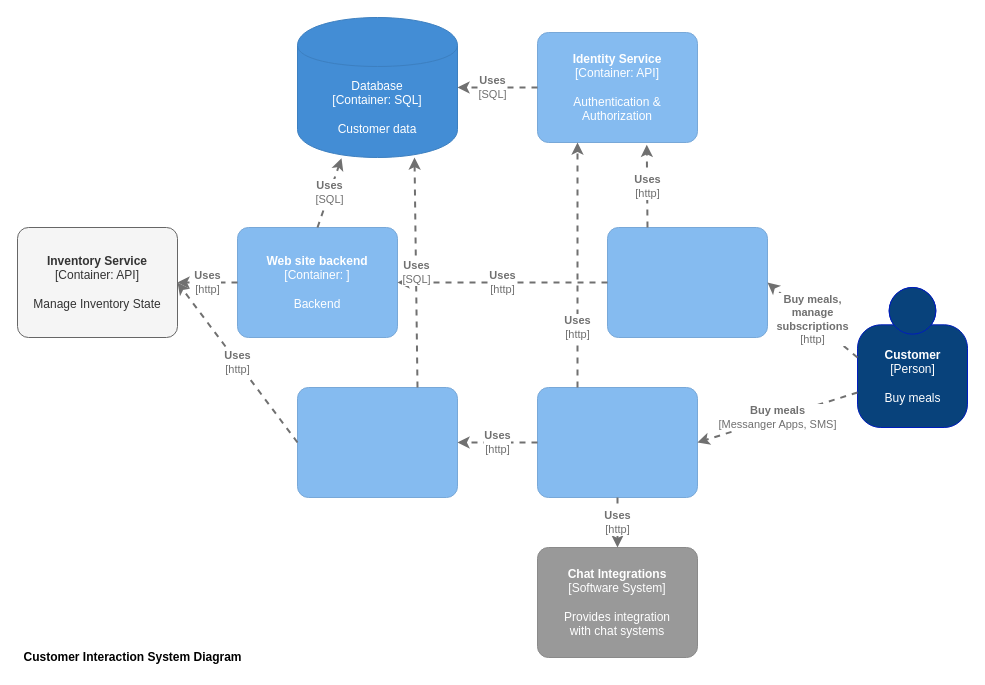
Some shapes in this 985 by 685 pixel diagram are drawn without their labels. The centre of each missing label's shape, as x and y in pixels:
"Chat bot [Container: Bot framework] Allows to order meals/check availability" belongs at point (617, 442).
"Chatbot [Container: ] Gateway" belongs at point (377, 442).
"Customer web site [Container: Progressive Web App] Frontend" belongs at point (687, 282).
